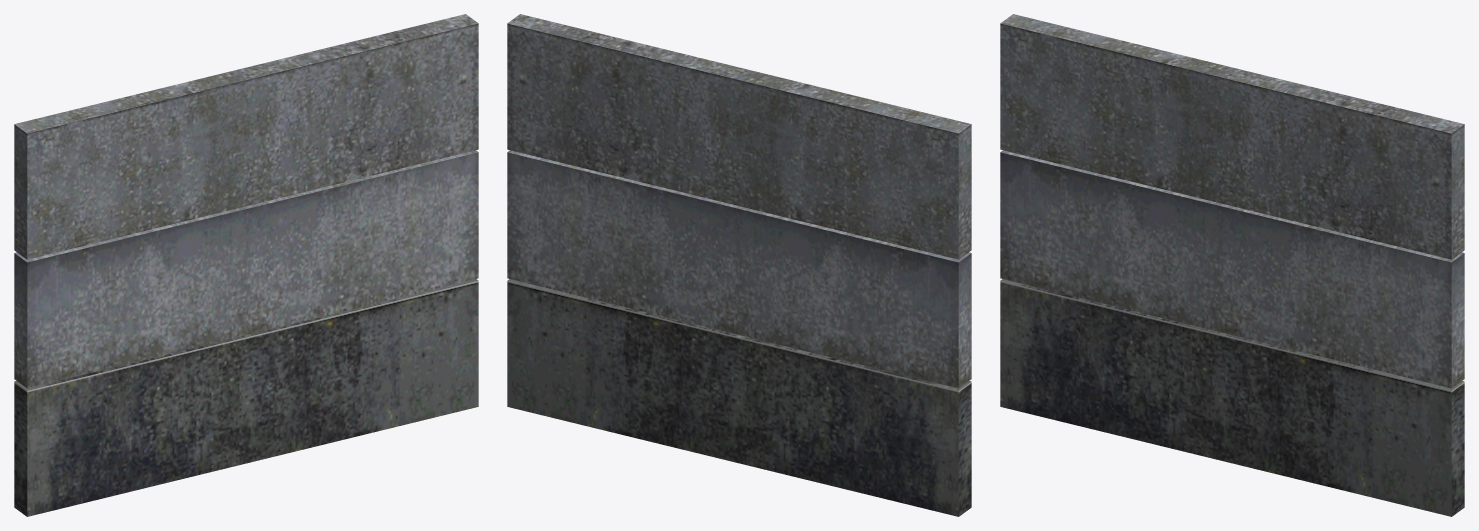
The model's file is ConcreteSlabFence_Panel_SlabsFull_Model.fbx.
3 views of the same model, side by side, from view 1: azimuth 30°, elevation 25°; view 2: azimuth 150°, elevation 25°; view 3: azimuth 330°, elevation 25° (orthographic).
Parts seen in each view (by area): view 1: Body; view 2: Body; view 3: Body.
Boxes of the visible parts, x1=… form: Body: x1=14, y1=14, x2=478, y2=516; Body: x1=507, y1=14, x2=971, y2=516; Body: x1=1000, y1=14, x2=1464, y2=516.
Size of the model in its own units: 300 by 243 by 15.
